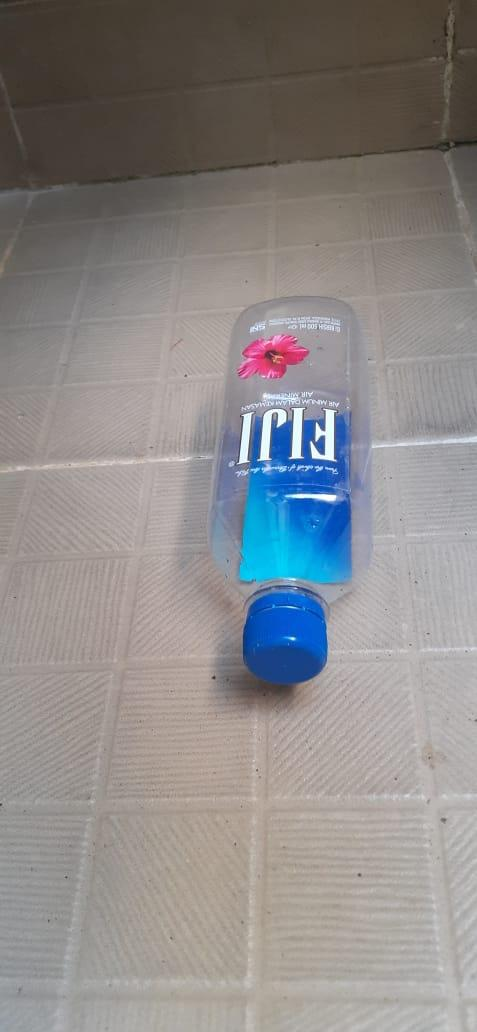Plastik: (212, 294, 374, 684)
